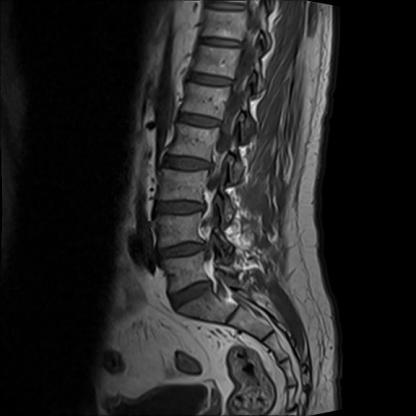Degenerative Disc Diseaserotation: (156, 238, 218, 263), (165, 282, 220, 307)
Disc Bulgerotation: (156, 239, 220, 264)
Disc Relaxationrotation: (148, 195, 211, 223)
